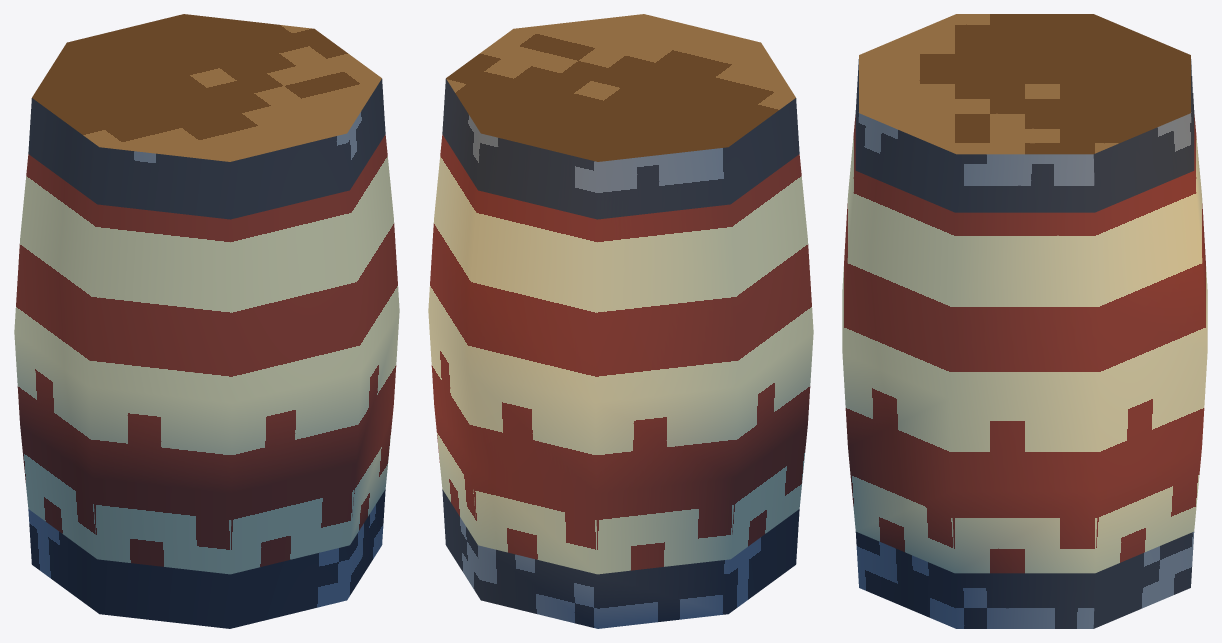
Rendered from wprop.barrel__powder.glb.
The picture shows the model from 3 angles, left to right: view 1: azimuth 30°, elevation 25°; view 2: azimuth 150°, elevation 25°; view 3: azimuth 270°, elevation 25°; orthographic projection.
Parts seen in each view (by area): view 1: kit_barrel; view 2: kit_barrel; view 3: kit_barrel.
Part boxes in pixels (x1,y1,x2,y2): kit_barrel: (14,14,399,628); kit_barrel: (428,14,813,628); kit_barrel: (842,14,1207,628).
Bounding box in the file's own units: 0.4878 × 0.7 × 0.4878.
3 materials, 3 textured.
